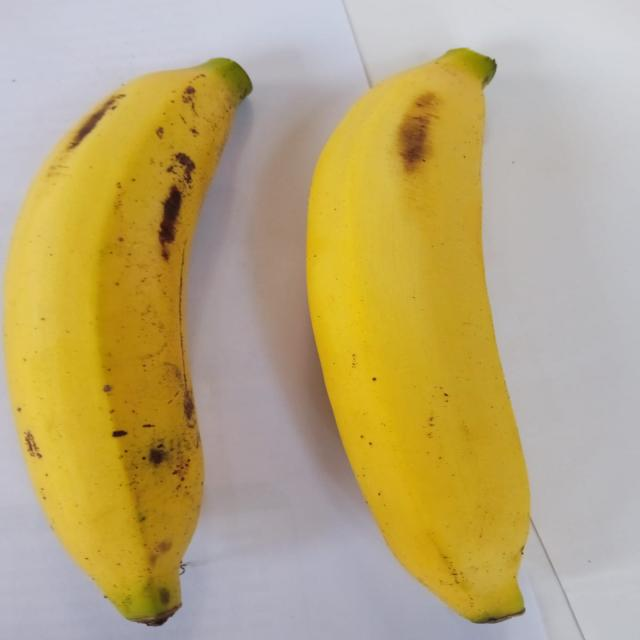banana: (5, 59, 251, 625), (308, 50, 529, 622)
